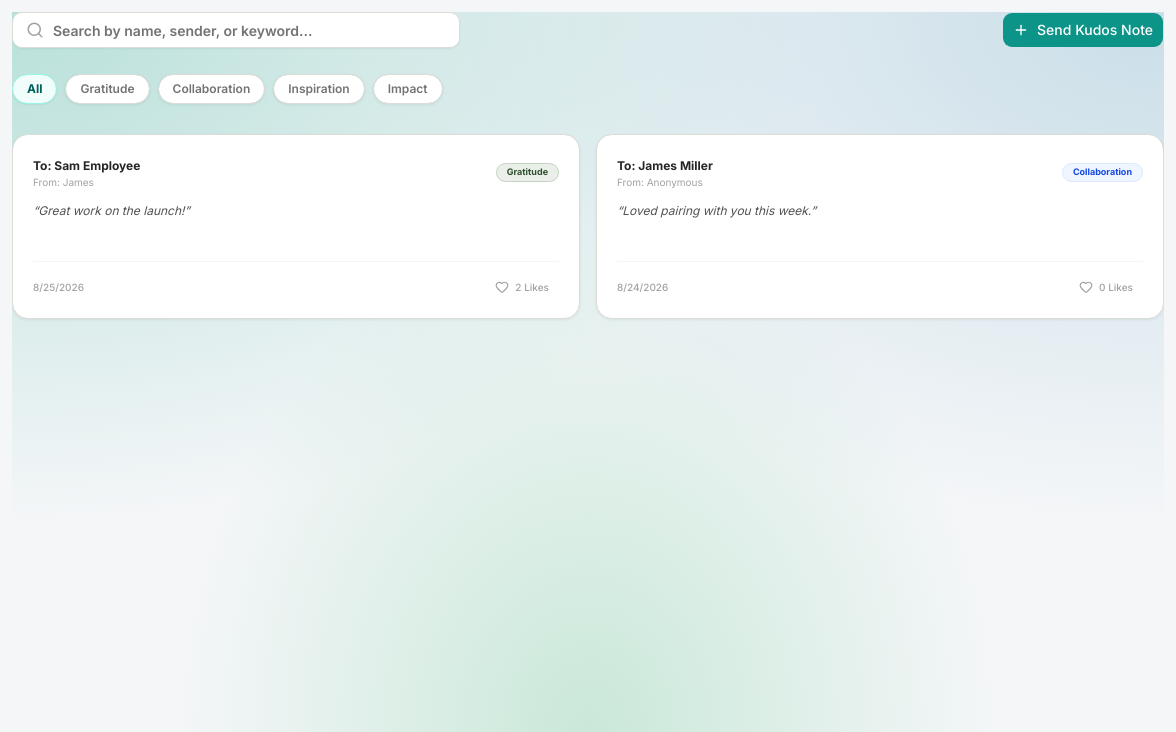
KudosFeed › search filters the feed by message content
Expected: the text "“Great work on the launch!”" is shown, [33, 203, 190, 218]
Type "pairing" into the field with placeholder "Search by name, sender, or keyword..." at (236, 30), box [12, 12, 460, 48]
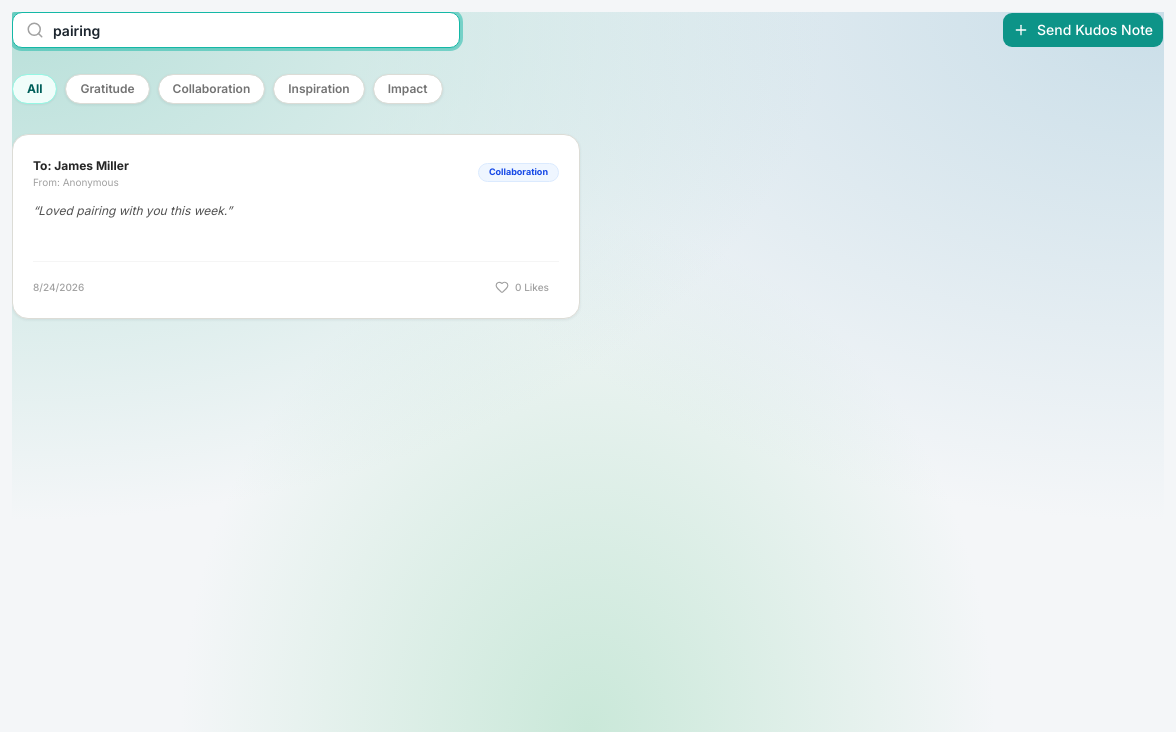
Expected: the text "“Loved pairing with you this week.”" is shown, [33, 203, 232, 218]
Result: the text "Great work on the launch" is gone
